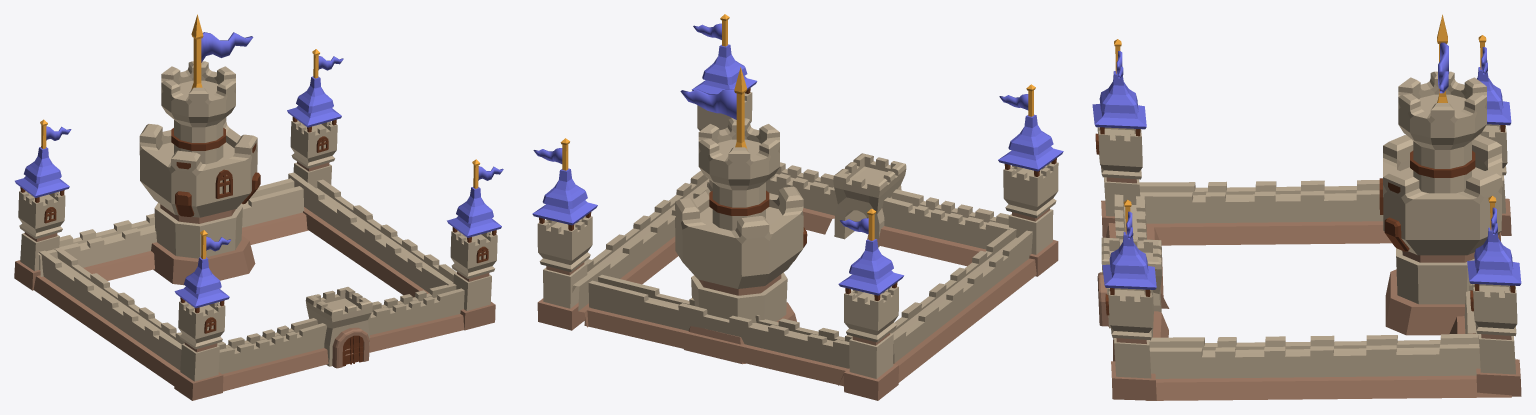
Rendered from Castle.fbx.
3 renders of one model, left to right at view 1: azimuth 30°, elevation 25°; view 2: azimuth 150°, elevation 25°; view 3: azimuth 270°, elevation 25°, orthographic. The views are drawn at different scales.
Visible parts, largest first — view 1: polySurface29, polySurface5, polySurface6, polySurface7, polySurface28, polySurface30, polySurface3, polySurface31, polySurface1, polySurface32, polySurface12; view 2: polySurface29, polySurface7, polySurface5, polySurface31, polySurface32, polySurface28, polySurface3, polySurface6, polySurface12, polySurface30, polySurface1; view 3: polySurface29, polySurface6, polySurface5, polySurface30, polySurface32, polySurface28, polySurface31, polySurface12, polySurface3, polySurface7, polySurface1.
Boxes of the visible parts, x1=… form: polySurface29: x1=139, y1=14, x2=260, y2=285; polySurface5: x1=33, y1=247, x2=184, y2=385; polySurface6: x1=288, y1=172, x2=456, y2=297; polySurface7: x1=38, y1=178, x2=308, y2=280; polySurface28: x1=174, y1=230, x2=230, y2=400; polySurface30: x1=447, y1=159, x2=503, y2=330; polySurface3: x1=217, y1=318, x2=328, y2=391; polySurface31: x1=14, y1=119, x2=71, y2=290; polySurface1: x1=346, y1=283, x2=464, y2=355; polySurface32: x1=287, y1=49, x2=343, y2=188; polySurface12: x1=305, y1=287, x2=372, y2=368; polySurface29: x1=675, y1=67, x2=807, y2=364; polySurface7: x1=584, y1=274, x2=894, y2=386; polySurface5: x1=838, y1=228, x2=1036, y2=385; polySurface31: x1=838, y1=208, x2=903, y2=400; polySurface32: x1=532, y1=138, x2=597, y2=330; polySurface28: x1=998, y1=84, x2=1063, y2=276; polySurface3: x1=876, y1=189, x2=1012, y2=265; polySurface6: x1=572, y1=170, x2=709, y2=327; polySurface12: x1=833, y1=153, x2=906, y2=247; polySurface30: x1=692, y1=14, x2=757, y2=130; polySurface1: x1=766, y1=162, x2=867, y2=234; polySurface29: x1=1379, y1=14, x2=1502, y2=335; polySurface6: x1=1146, y1=333, x2=1511, y2=400; polySurface5: x1=1139, y1=180, x2=1500, y2=245; polySurface30: x1=1102, y1=199, x2=1156, y2=400; polySurface32: x1=1467, y1=195, x2=1521, y2=396; polySurface28: x1=1092, y1=39, x2=1146, y2=237; polySurface31: x1=1477, y1=35, x2=1511, y2=235; polySurface12: x1=1097, y1=237, x2=1161, y2=328; polySurface3: x1=1106, y1=194, x2=1163, y2=296; polySurface7: x1=1449, y1=233, x2=1500, y2=333; polySurface1: x1=1113, y1=290, x2=1168, y2=361.
Bounding box in the file's own units: 1060 × 766 × 999.
